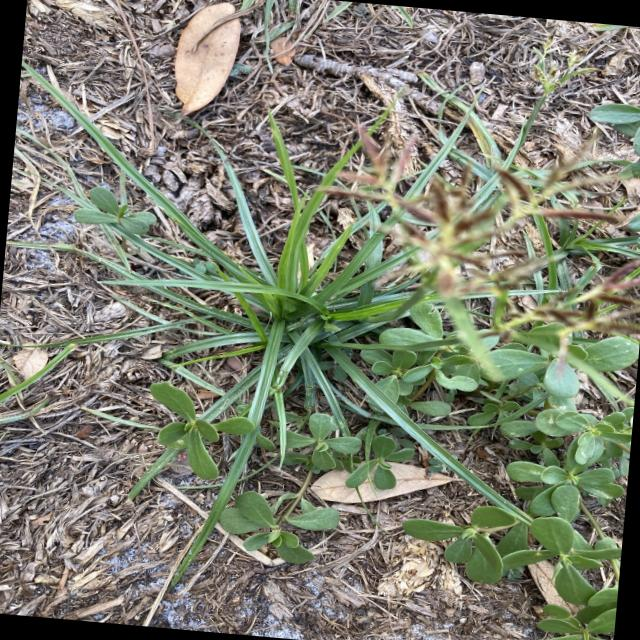cyperus: (320, 87, 640, 361)
